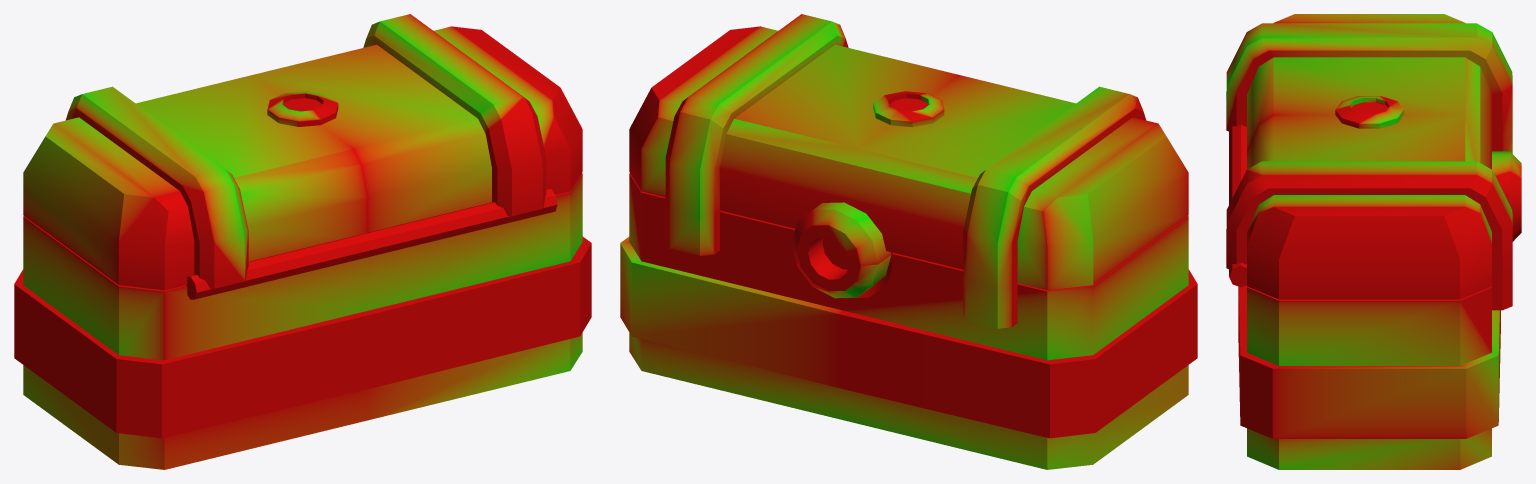
File: Chest1.fbx
3 views of the same model, side by side, from view 1: azimuth 30°, elevation 25°; view 2: azimuth 150°, elevation 25°; view 3: azimuth 270°, elevation 25° (orthographic). The views are drawn at different scales.
Parts seen in each view (by area): view 1: Cube.001; view 2: Cube.001; view 3: Cube.001.
Boxes of the visible parts, x1,y1,x2,y2 form: Cube.001: (14,14,591,469); Cube.001: (620,14,1197,469); Cube.001: (1226,14,1521,469).
Bounding box in the file's own units: 4.25 × 2.37 × 2.41.
